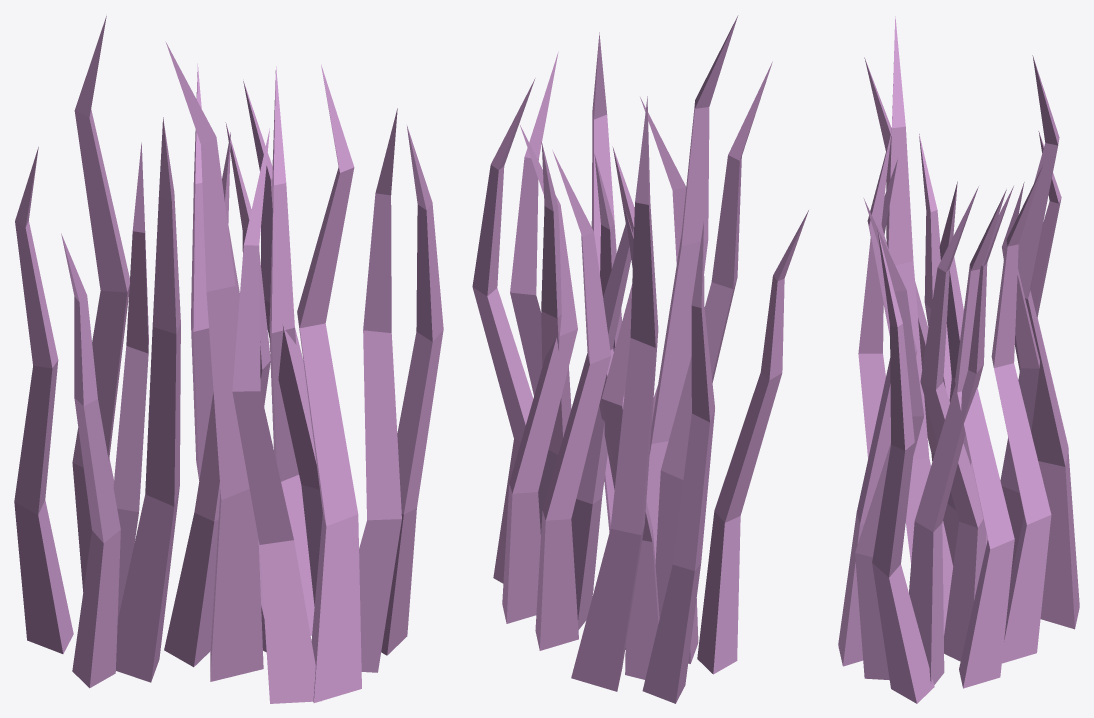
File: Coral10.fbx
3 renders of one model, left to right at view 1: azimuth 30°, elevation 25°; view 2: azimuth 150°, elevation 25°; view 3: azimuth 270°, elevation 25°, orthographic. The views are drawn at different scales.
Visible parts, largest first — view 1: Coral10; view 2: Coral10; view 3: Coral10.
Boxes of the visible parts, x1,y1,x2,y2 form: Coral10: (14, 16, 443, 703); Coral10: (472, 15, 808, 703); Coral10: (838, 16, 1079, 703).
Size of the model in its own units: 1.12 by 1.91 by 0.7173.
